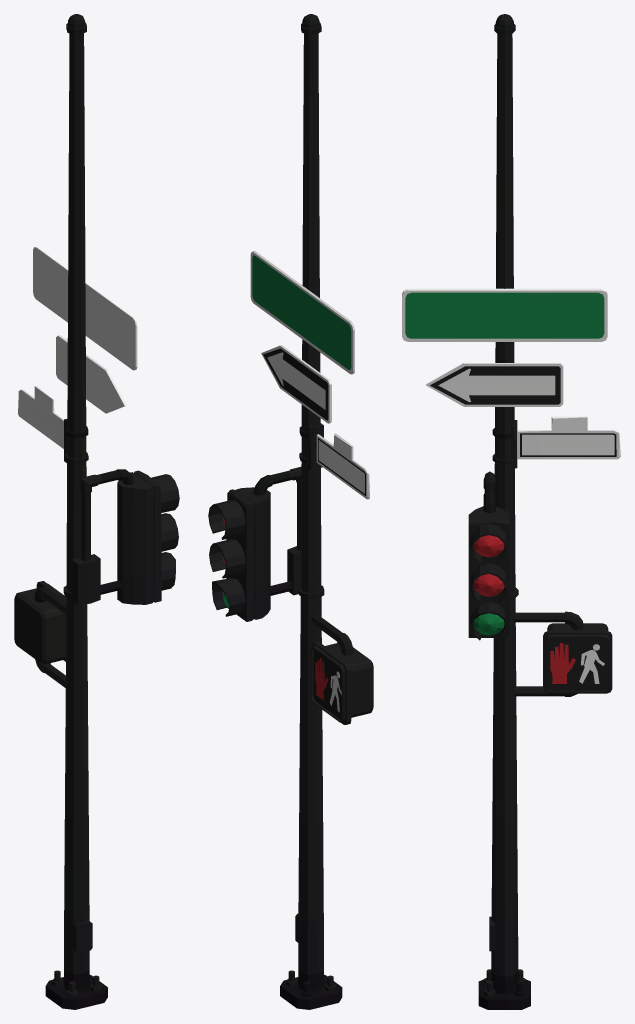
Rendered from LightPole00.fbx.
3 views of the same model, side by side, from view 1: azimuth 30°, elevation 25°; view 2: azimuth 210°, elevation 25°; view 3: azimuth 270°, elevation 25° (orthographic).
Visible parts, largest first — view 1: SM_City_LightPole_01a.mo; view 2: SM_City_LightPole_01a.mo; view 3: SM_City_LightPole_01a.mo.
Part boxes in pixels (box(x1,y1,x2,y2)): SM_City_LightPole_01a.mo: box(14, 14, 179, 1009); SM_City_LightPole_01a.mo: box(208, 14, 373, 1009); SM_City_LightPole_01a.mo: box(402, 14, 620, 1009).
Size of the model in its own units: 95.3 by 824 by 166.
